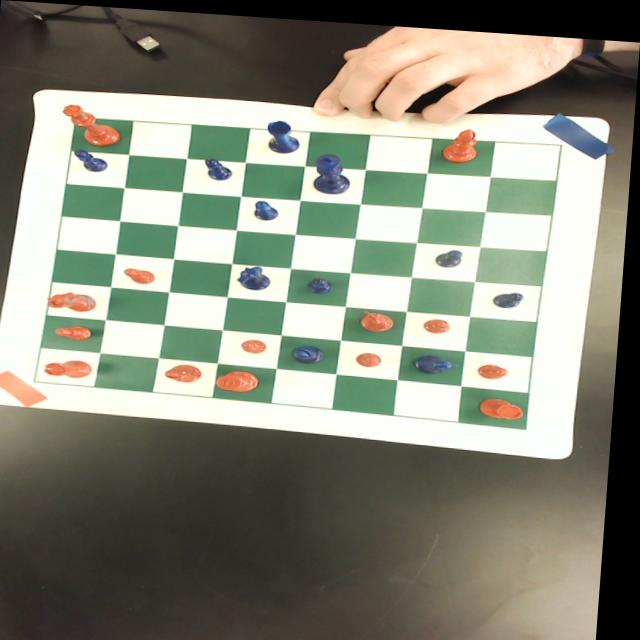B: (296, 341, 331, 360)
K: (313, 149, 354, 191)
N: (416, 347, 466, 370), (238, 260, 275, 288)
P: (72, 147, 110, 171), (203, 155, 236, 178), (494, 284, 529, 303), (254, 196, 283, 217), (437, 242, 465, 262), (310, 273, 337, 290)
R: (266, 115, 302, 151)
b: (442, 120, 480, 157), (168, 361, 207, 381)
k: (219, 366, 265, 390)
n: (49, 288, 101, 311), (363, 304, 398, 327)
p: (58, 322, 96, 340), (126, 265, 159, 283), (480, 356, 513, 373), (243, 334, 272, 351), (425, 311, 454, 328), (359, 346, 386, 362)
q: (60, 102, 125, 147)
r: (478, 389, 530, 412), (47, 356, 98, 379)
